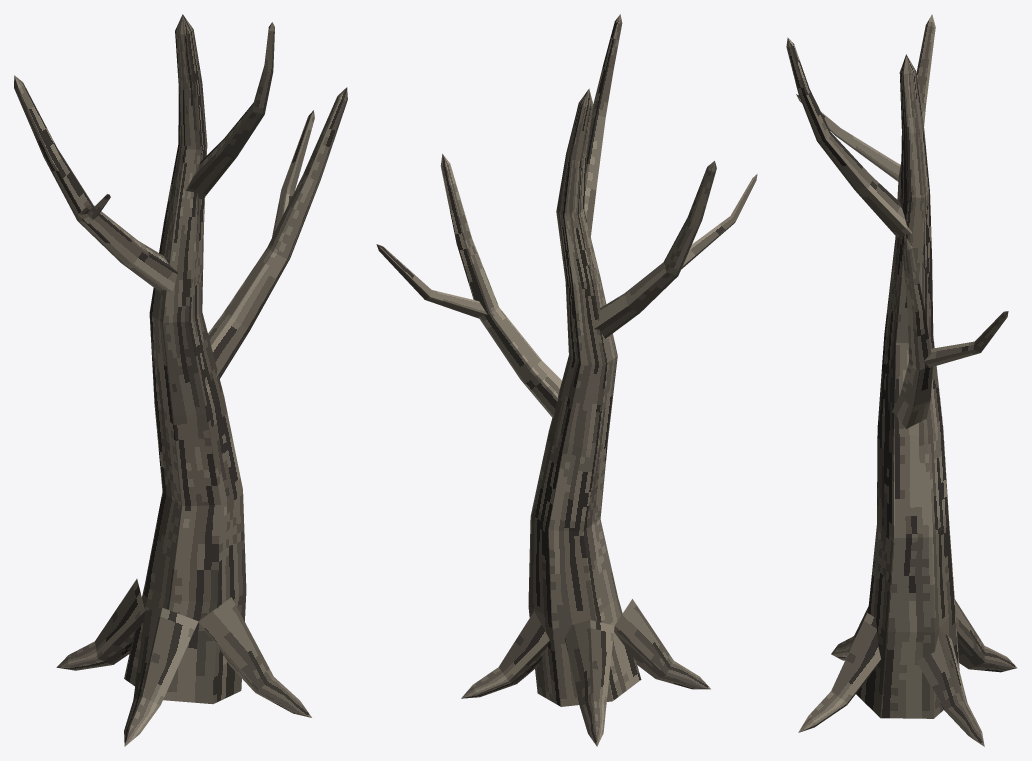
File: tree_dead.glb
The picture shows the model from 3 angles, left to right: view 1: azimuth 30°, elevation 25°; view 2: azimuth 150°, elevation 25°; view 3: azimuth 270°, elevation 25°; orthographic projection. The views are drawn at different scales.
Visible parts, largest first — view 1: tree_dead; view 2: tree_dead; view 3: tree_dead.
Part boxes in pixels (box(x1,y1,x2,y2)): tree_dead: box(14, 14, 347, 746); tree_dead: box(376, 14, 757, 746); tree_dead: box(786, 14, 1016, 746).
Size of the model in its own units: 1.4 by 2.8 by 0.8696.
Materials: 1 (1 with a texture image).
